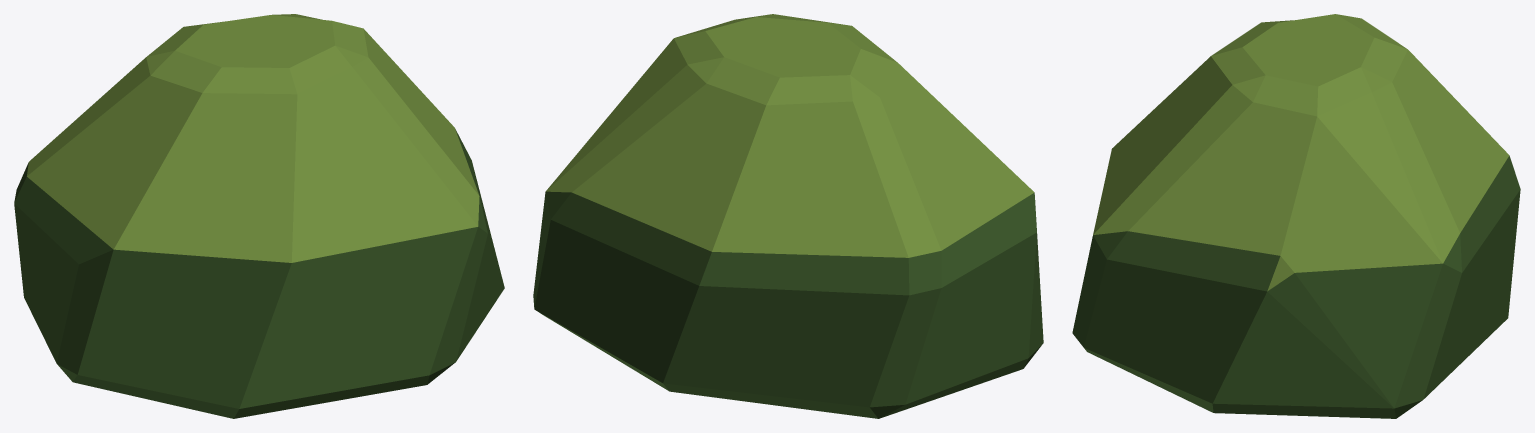
The model's file is gf_stone_hero_a.glb.
3 renders of one model, left to right at view 1: azimuth 30°, elevation 25°; view 2: azimuth 150°, elevation 25°; view 3: azimuth 270°, elevation 25°, orthographic. The views are drawn at different scales.
Parts seen in each view (by area): view 1: gf_stone_hero_a; view 2: gf_stone_hero_a; view 3: gf_stone_hero_a.
Boxes of the visible parts, x1,y1,x2,y2 form: gf_stone_hero_a: (14, 14, 504, 418); gf_stone_hero_a: (533, 14, 1043, 418); gf_stone_hero_a: (1072, 14, 1520, 418).
Size of the model in its own units: 0.3052 by 0.19 by 0.2804.
